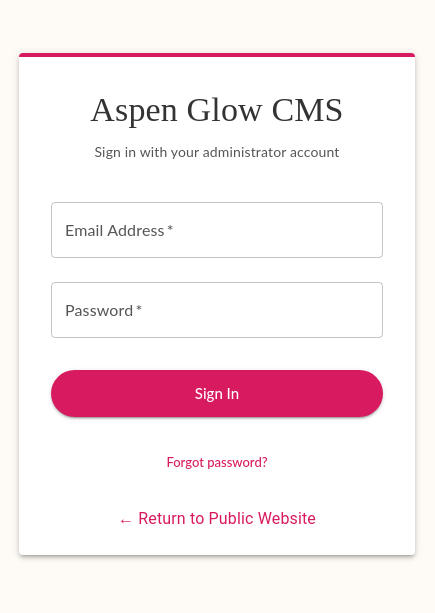
Test: Ticket 1 — Public Access & Admin Authentication › shows safe error message and preserves email when credentials are invalid
Type "shilpi@example.com" into the field labelled "Email Address *" at (217, 230), box [51,202,383,258]
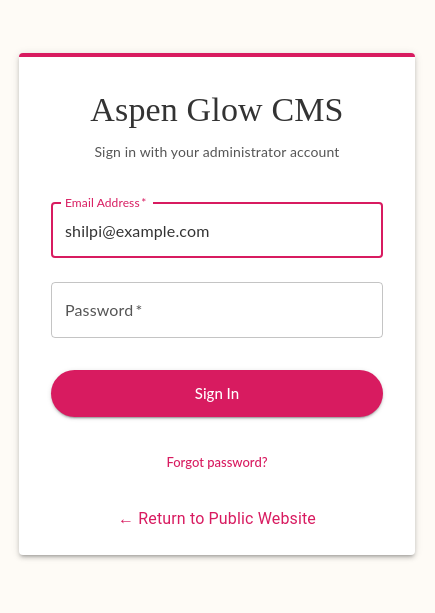
Type "wrong-password" into the password field labelled "Password *" at (217, 310), box [51,282,383,338]
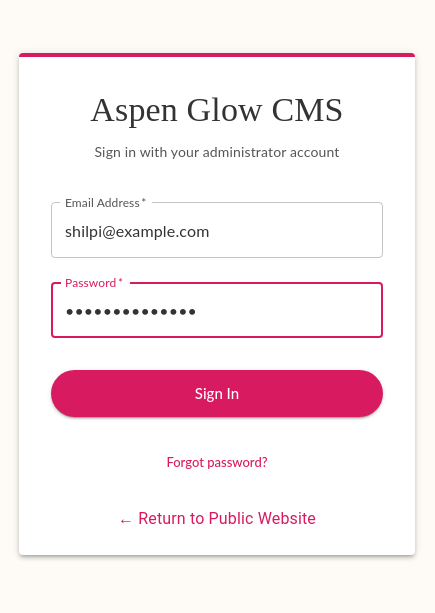
Click the button "Sign In" at (217, 394), box [51,370,383,417]
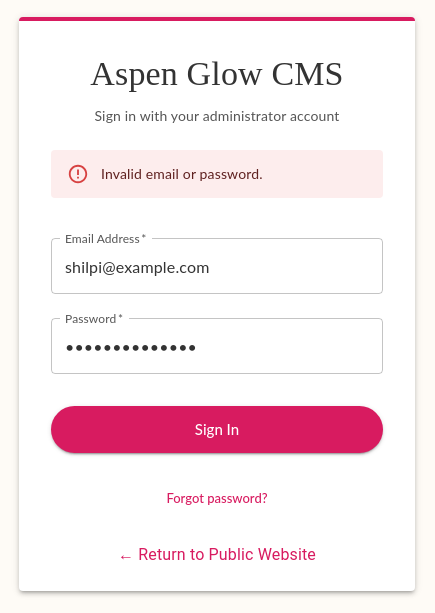
Result: the message shows "Invalid email or password" at [101,165,263,182]
